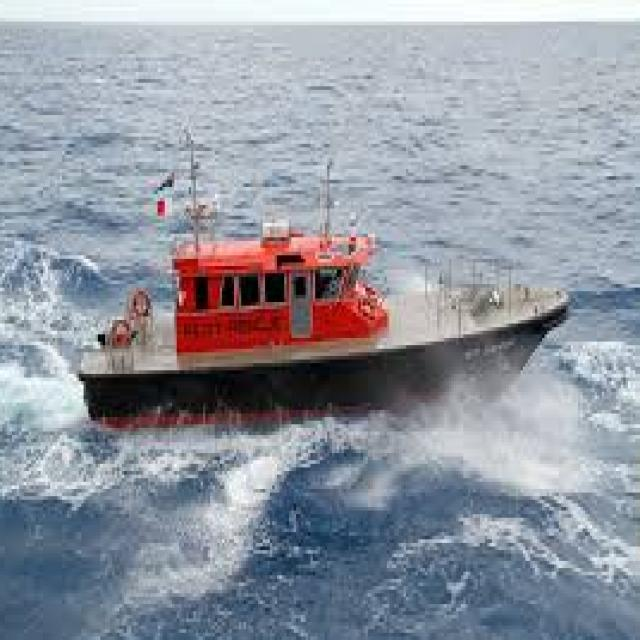houseboat: (64, 131, 566, 432)
